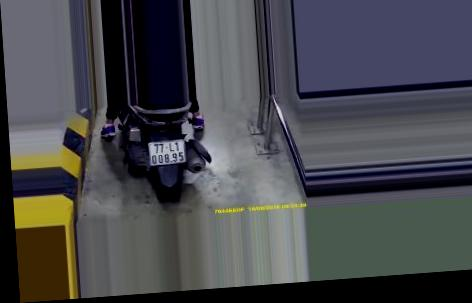License_Plate: (146, 138, 190, 167)
